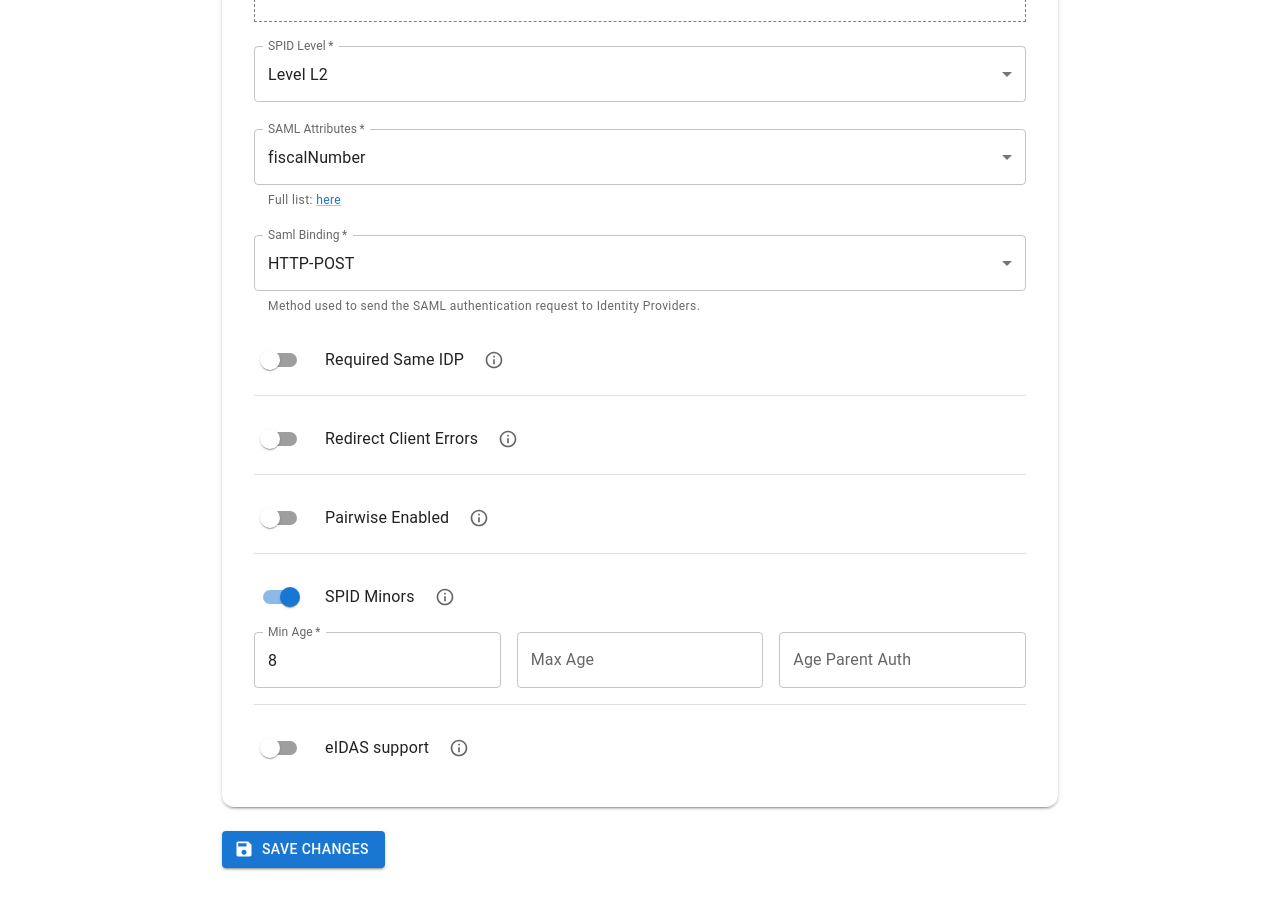
Scenario: Dashboard SPID Minors › opens confirm dialog when Min Age is changed in update mode
(page scrolled)
Note: Cambio il valore di Min Age
Replace the text in the number field labelled "Min Age *" with "12": (377, 660) [254,632,501,688]
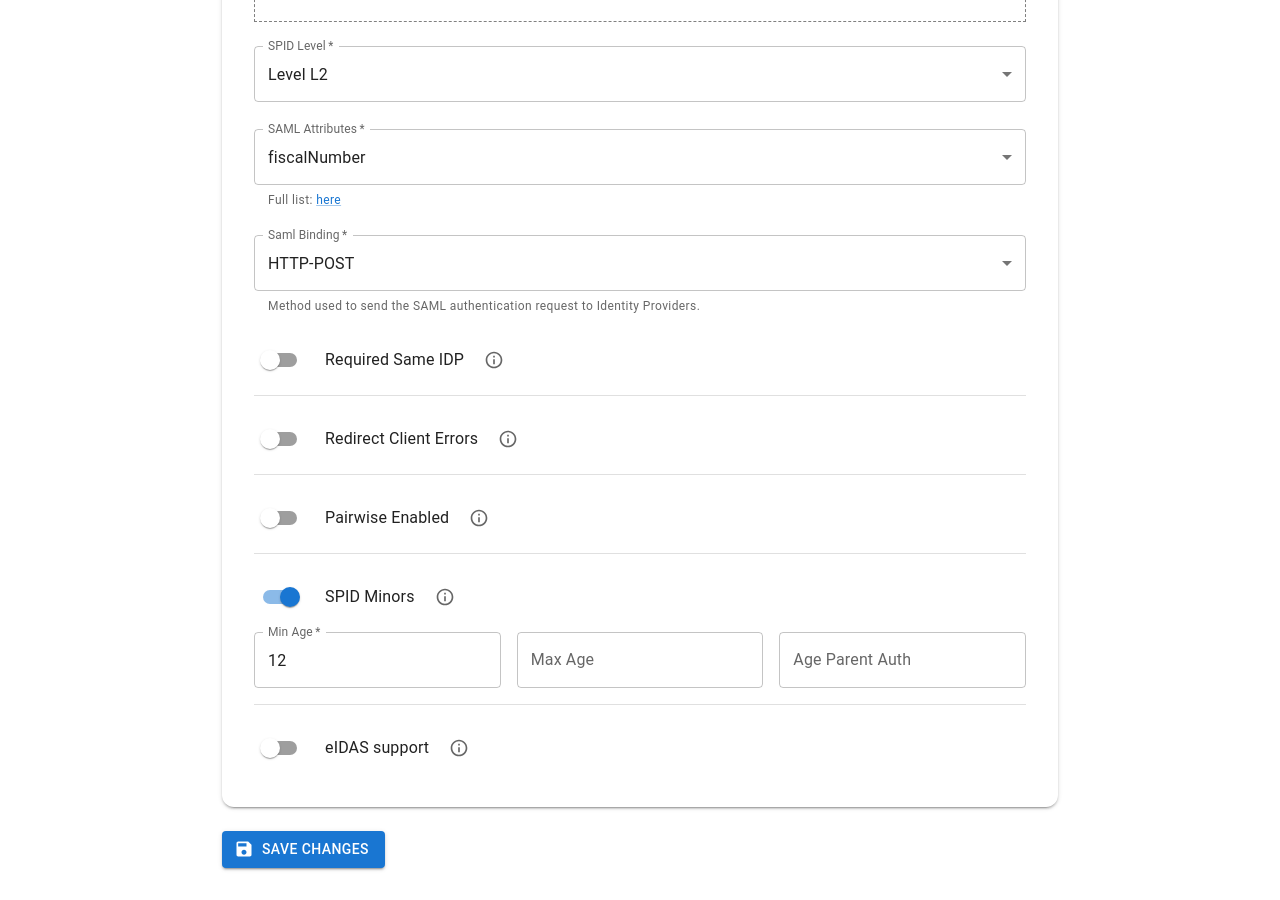
Click the button with test id "submit-button": (303, 849) [222,831,385,868]
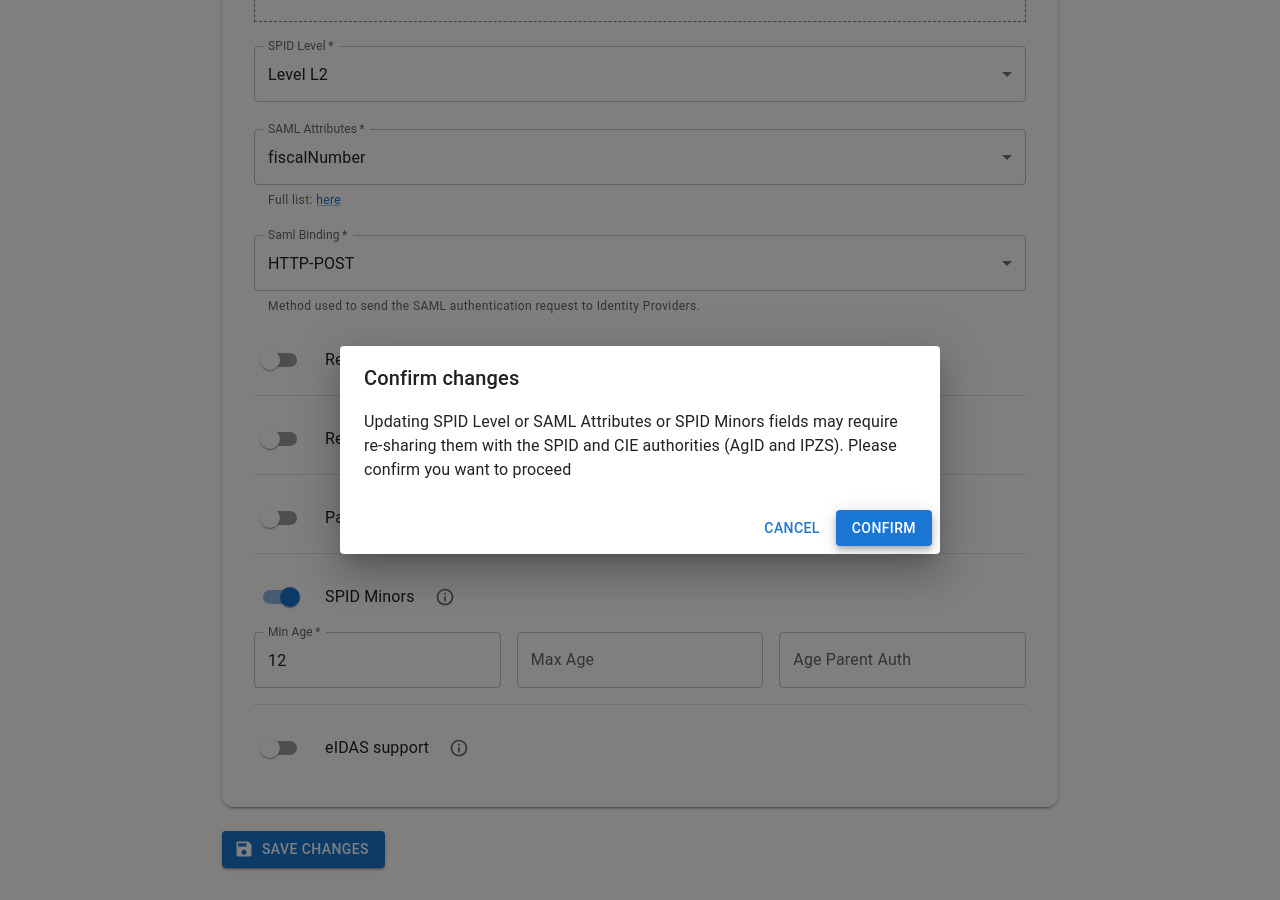
Check: the dialog "Confirm changes" is shown, box [340,346,940,554]
